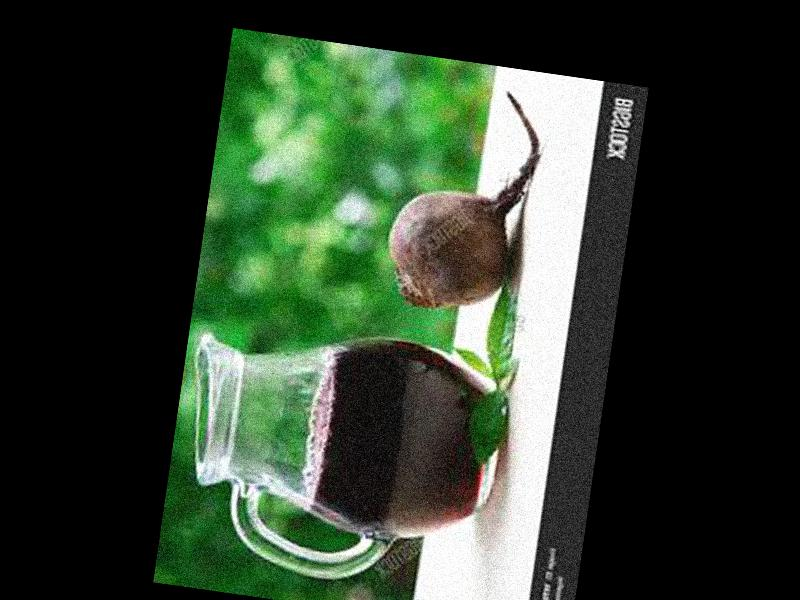Beet: (382, 80, 548, 319)
